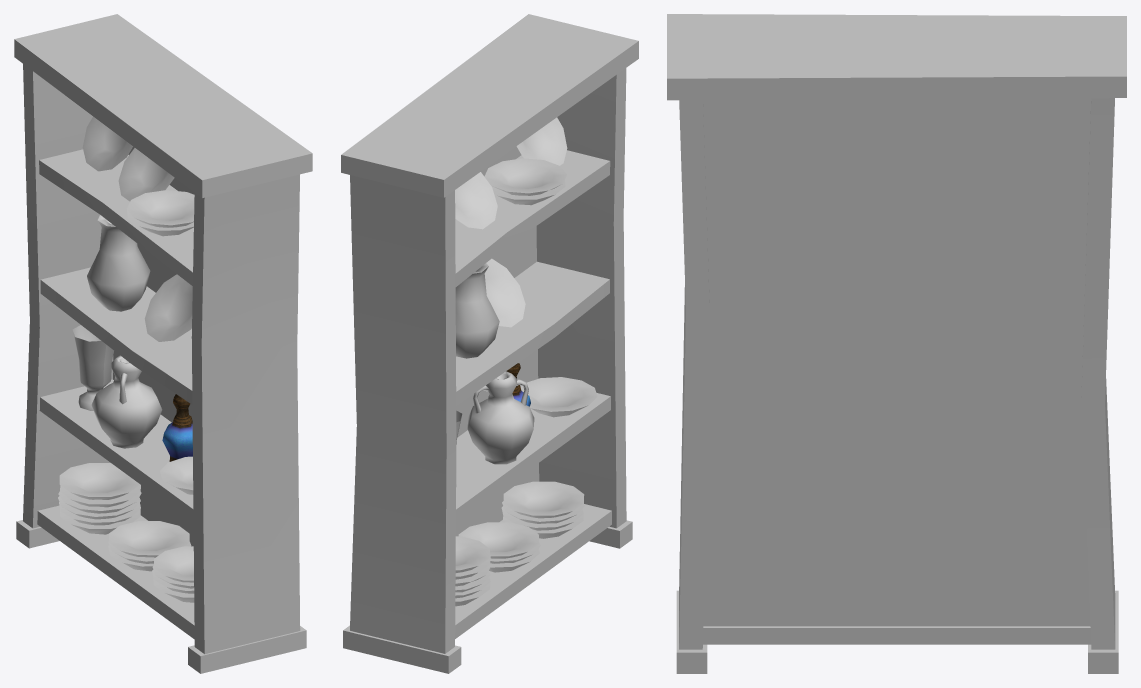
The model's file is Cupboard_07.fbx.
3 views of the same model, side by side, from view 1: azimuth 30°, elevation 25°; view 2: azimuth 150°, elevation 25°; view 3: azimuth 270°, elevation 25° (orthographic). The views are drawn at different scales.
Visible parts, largest first — view 1: Cupboard_07; view 2: Cupboard_07; view 3: Cupboard_07.
Boxes of the visible parts, left/top/right/bottom form: Cupboard_07: left=14, top=14, right=312, bottom=673; Cupboard_07: left=341, top=14, right=638, bottom=673; Cupboard_07: left=667, top=14, right=1126, bottom=673.
Bounding box in the file's own units: 0.607 × 2.61 × 1.82.
